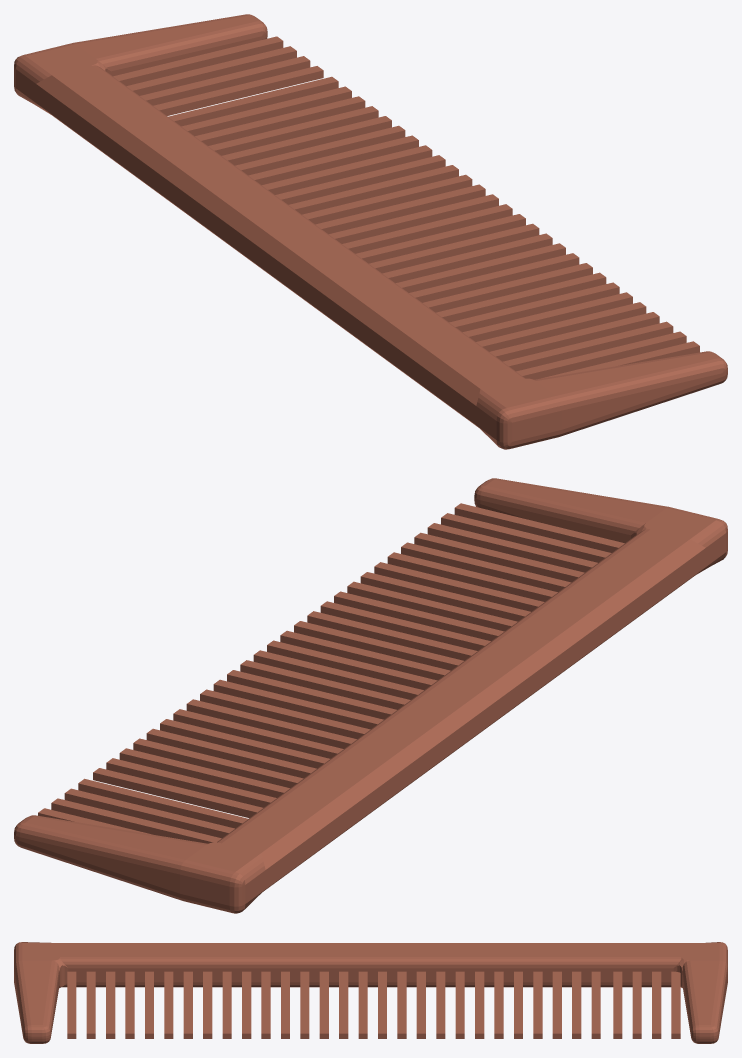
File: peine.fbx
3 renders of one model, top to bottom at view 1: azimuth 30°, elevation 25°; view 2: azimuth 150°, elevation 25°; view 3: azimuth 270°, elevation 25°, orthographic. The views are drawn at different scales.
Parts seen in each view (by area): view 1: Comb; view 2: Comb; view 3: Comb.
Part boxes in pixels (x1=…): Comb: x1=14, y1=14, x2=727, y2=449; Comb: x1=14, y1=478, x2=727, y2=913; Comb: x1=14, y1=942, x2=727, y2=1043.
Size of the model in its own units: 4.01 by 0.6506 by 14.47.
